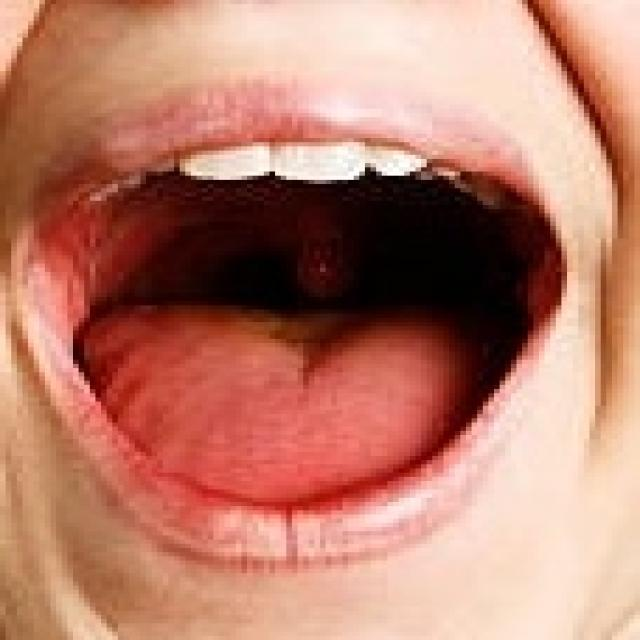open-mouth: (6, 113, 578, 569)
